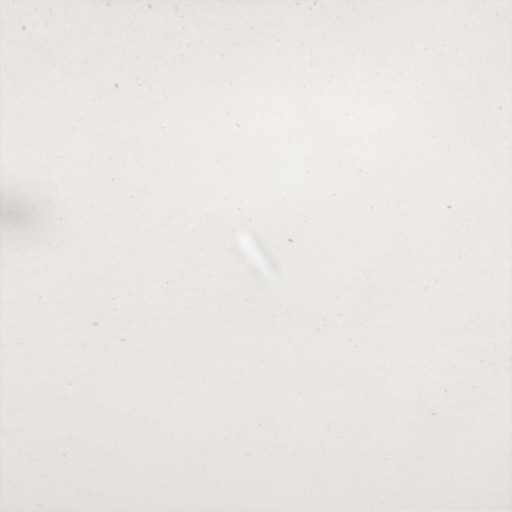lego: (233, 223, 281, 288)
